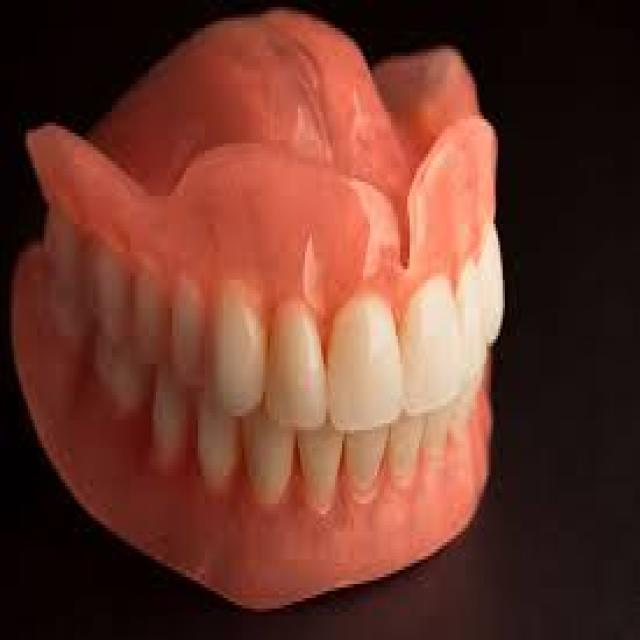tooth: (330, 311, 405, 423), (205, 287, 268, 416), (266, 304, 324, 430), (396, 294, 460, 406), (242, 412, 293, 510), (133, 272, 177, 384), (344, 427, 386, 521), (454, 255, 486, 378), (477, 238, 507, 350), (305, 423, 340, 514), (196, 399, 235, 479), (391, 416, 426, 493), (158, 381, 186, 465)
